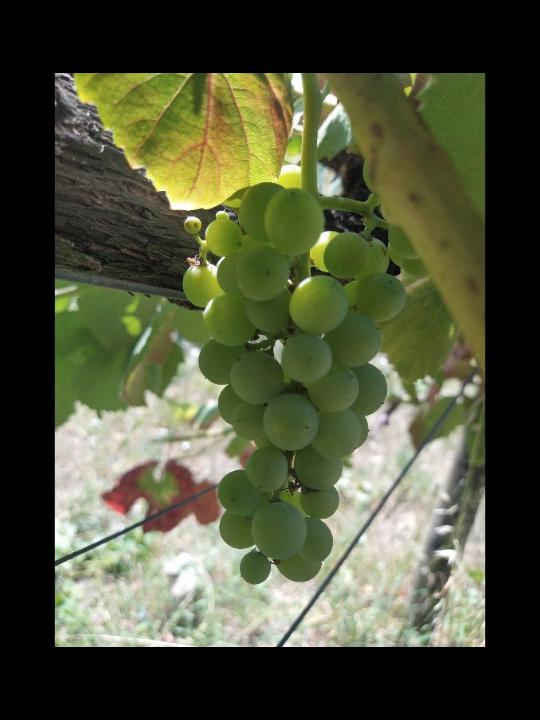grape: (182, 165, 429, 584)
